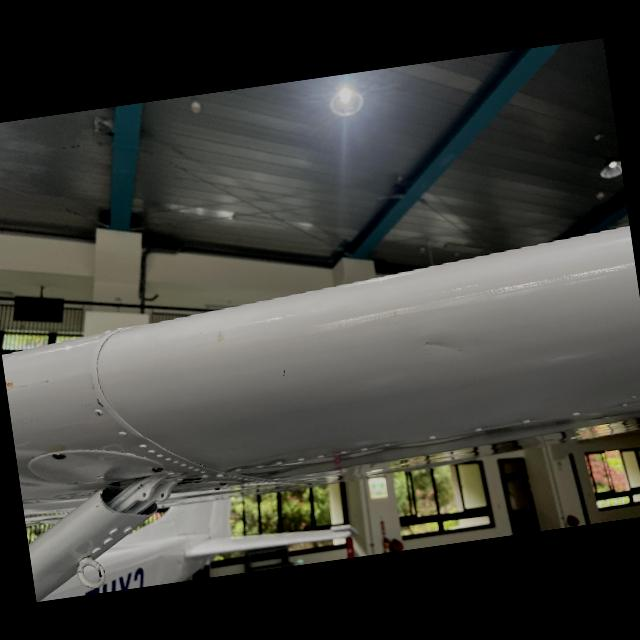dent: (394, 321, 494, 369)
